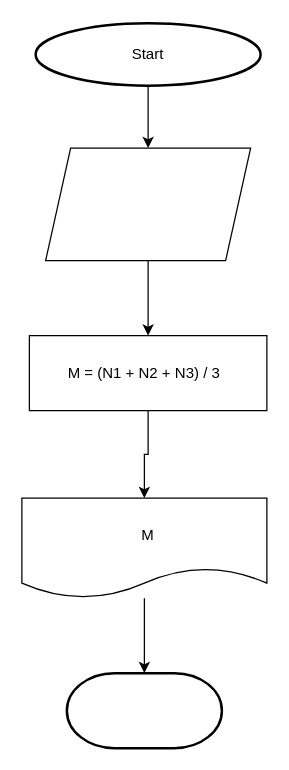
Image size: 289x770. Some labels were removed from this diagram. Each missing label, with the box of its shape:
Fim: (65, 671, 222, 749)
N1, N2, N3: (44, 147, 251, 261)
